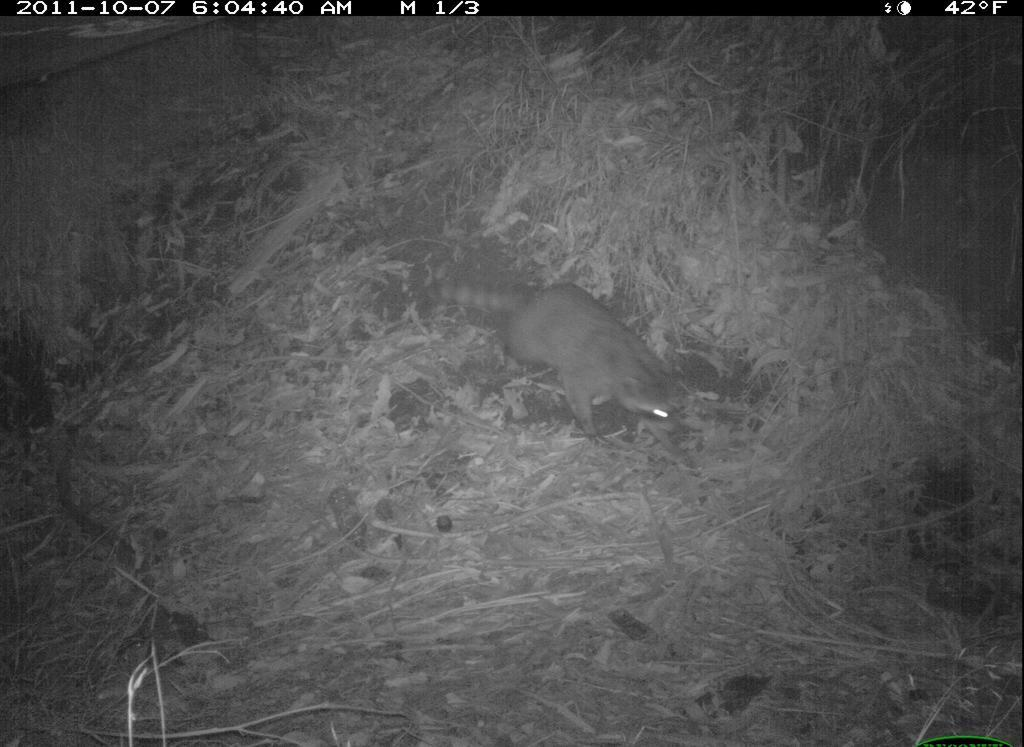raccoon: (428, 257, 711, 455)
